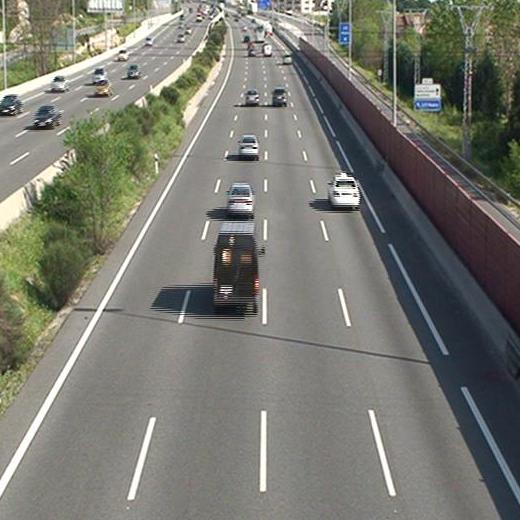car: (328, 176, 360, 207), (226, 185, 255, 216), (239, 135, 259, 156), (244, 90, 259, 107), (273, 88, 287, 104), (282, 54, 292, 65)
van: (213, 228, 260, 308)
